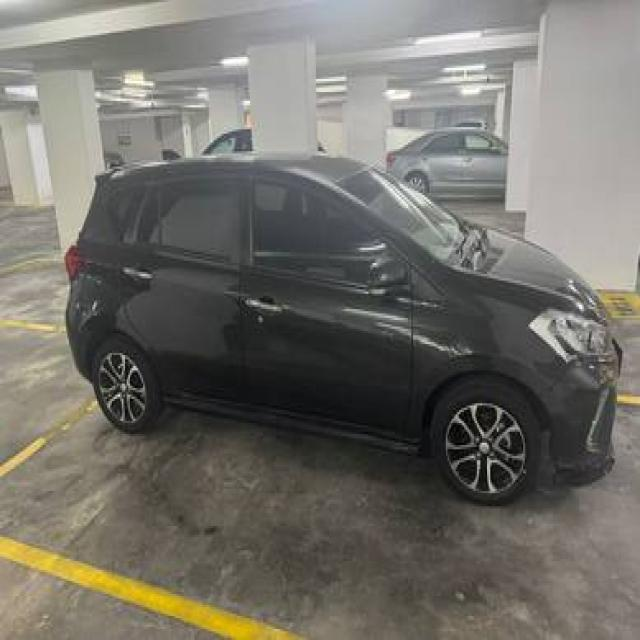PeroduaMyvi: (62, 148, 622, 506)
